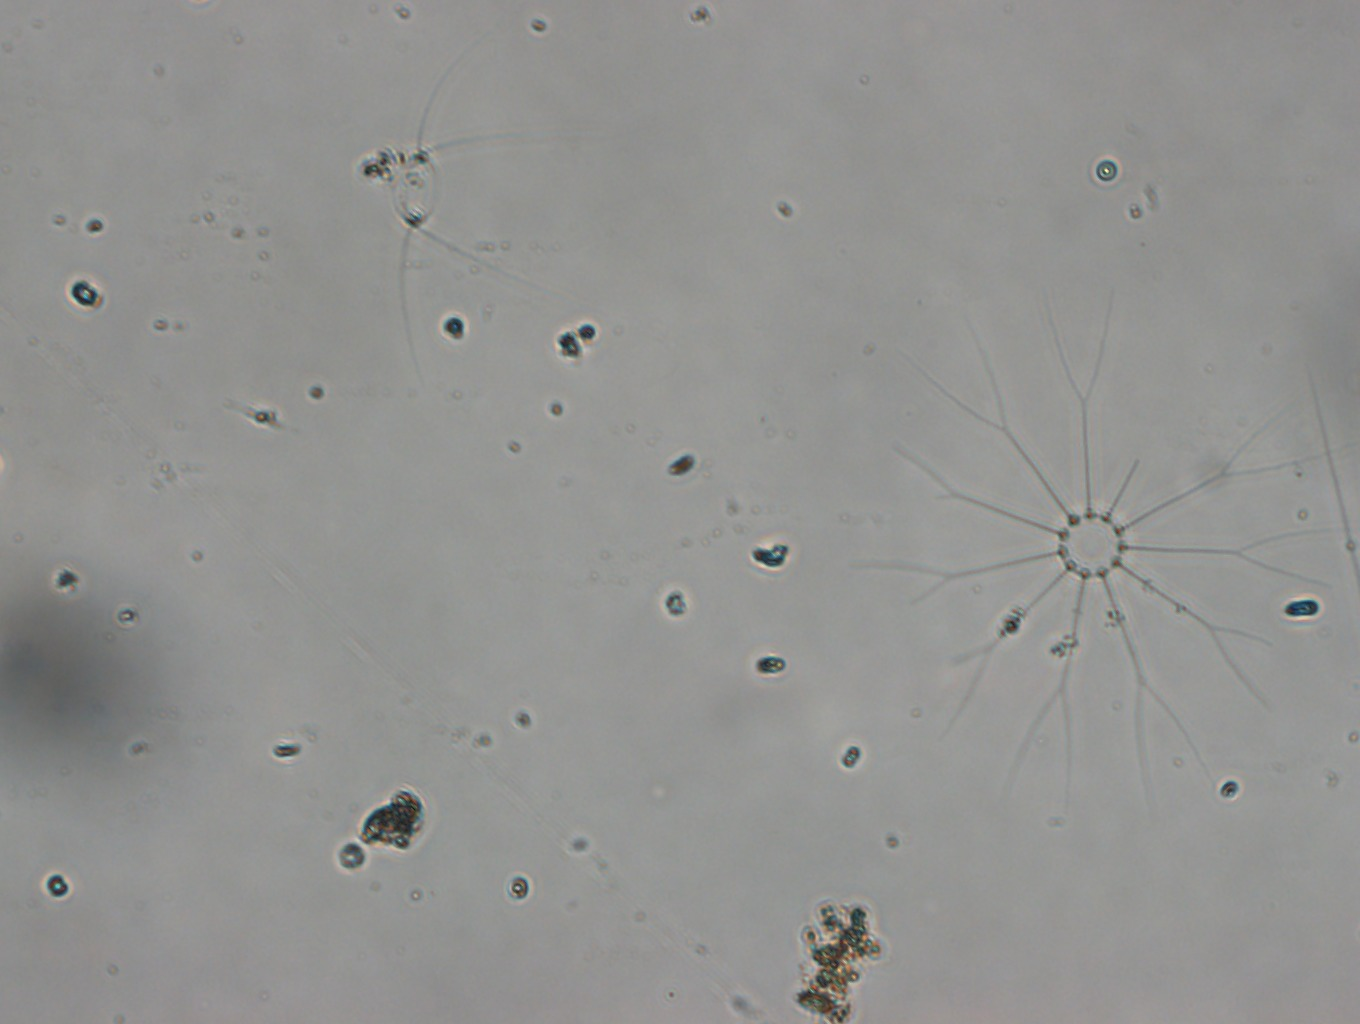bacteriastrum: (888, 296, 1317, 778)
